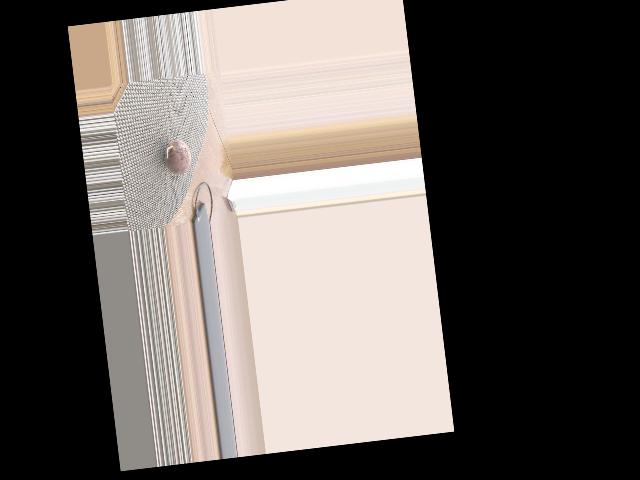beet: (162, 139, 192, 176)
